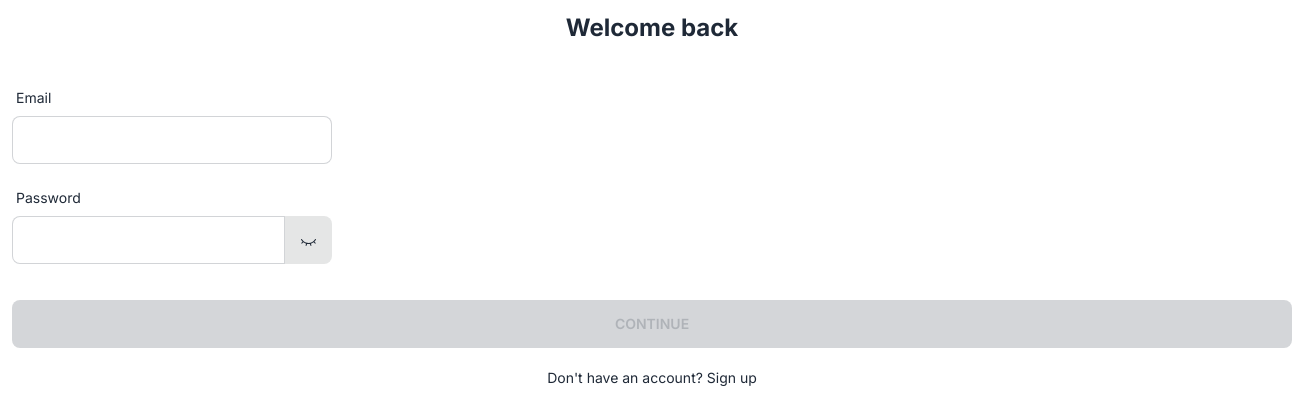
Test: SignInForm › Behavior › Should have button enabled if email and password are valid
Type "cesarclarosns@gmail.com" into the field below "Email". click: (172, 140)
box: [12, 116, 332, 164]
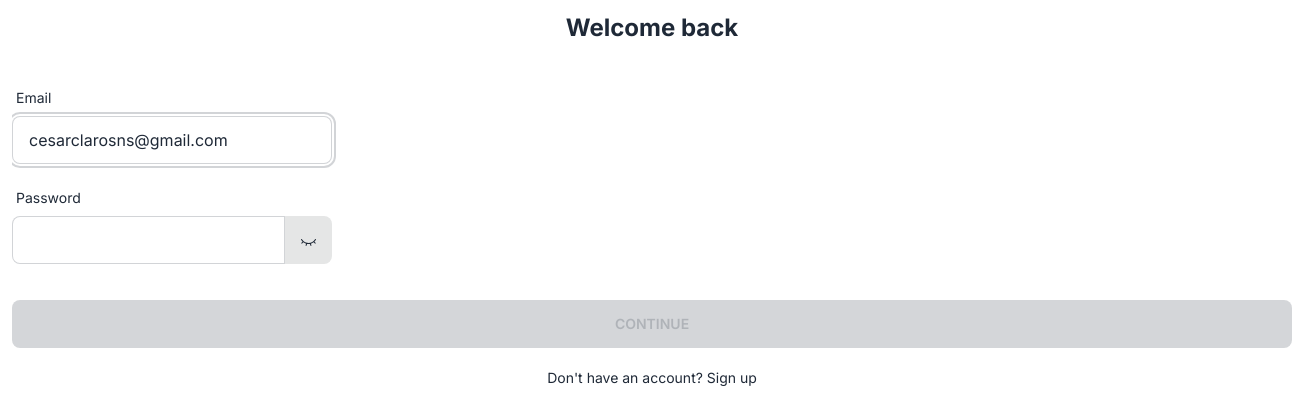
Type "cesarclarosns@gmail.com" into the field below "Password". click: (148, 240)
box: [12, 216, 285, 264]
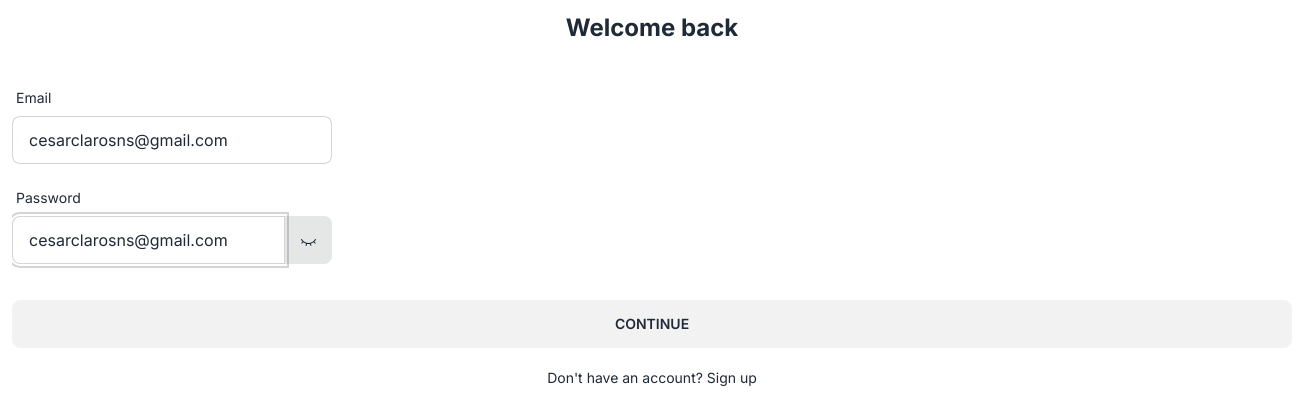
Expected: the button is enabled, [12, 300, 1292, 348]
